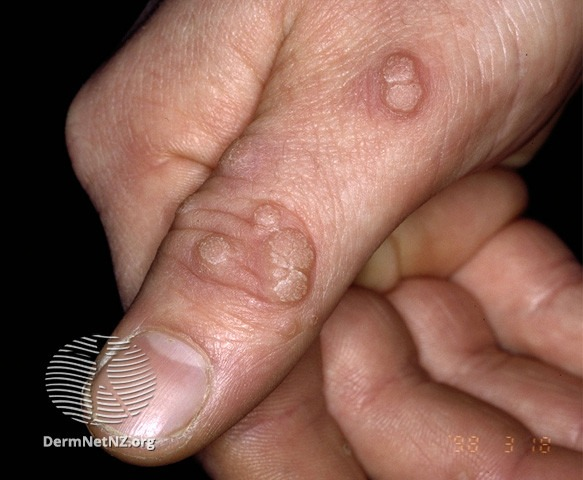Warts: (239, 195, 321, 309), (380, 45, 429, 124), (187, 219, 240, 274)
